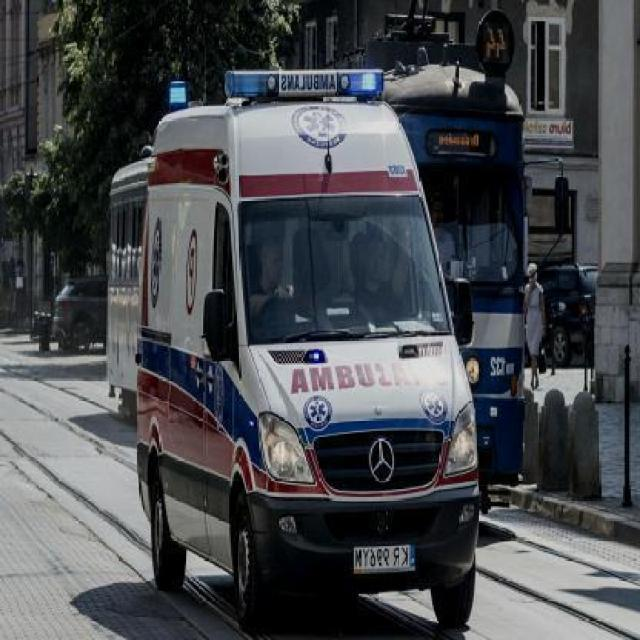emergency: (122, 65, 486, 628)
